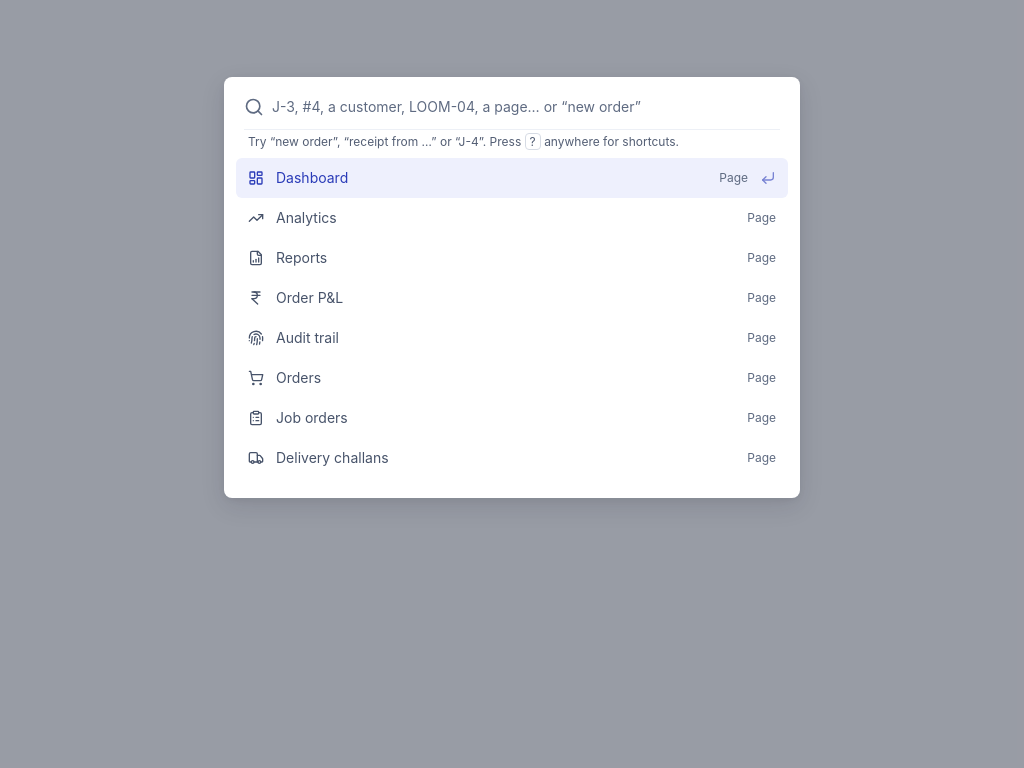
Scenario: GlobalSearch › finds a machine however its ID is typed
This screenshot has width=1024, height=768.
Type "loom 04" into the field named "Search everything". click: (526, 107)
box: [272,97,780,117]
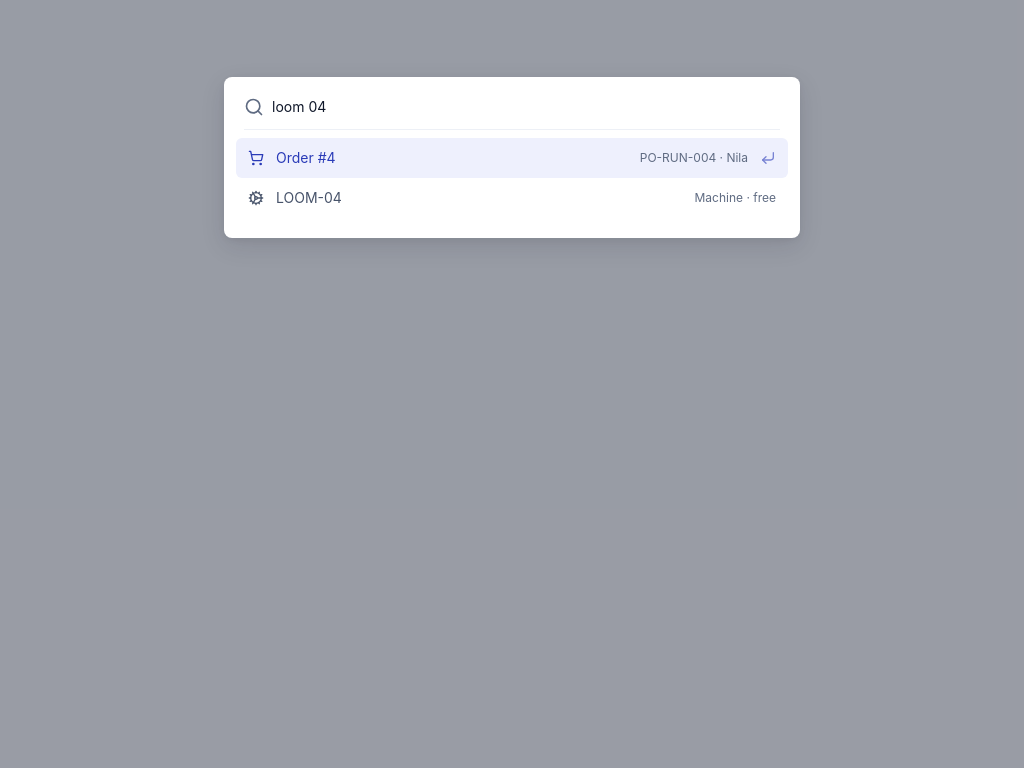
Expected: the text "LOOM-04" is shown, [276,189,342,206]
